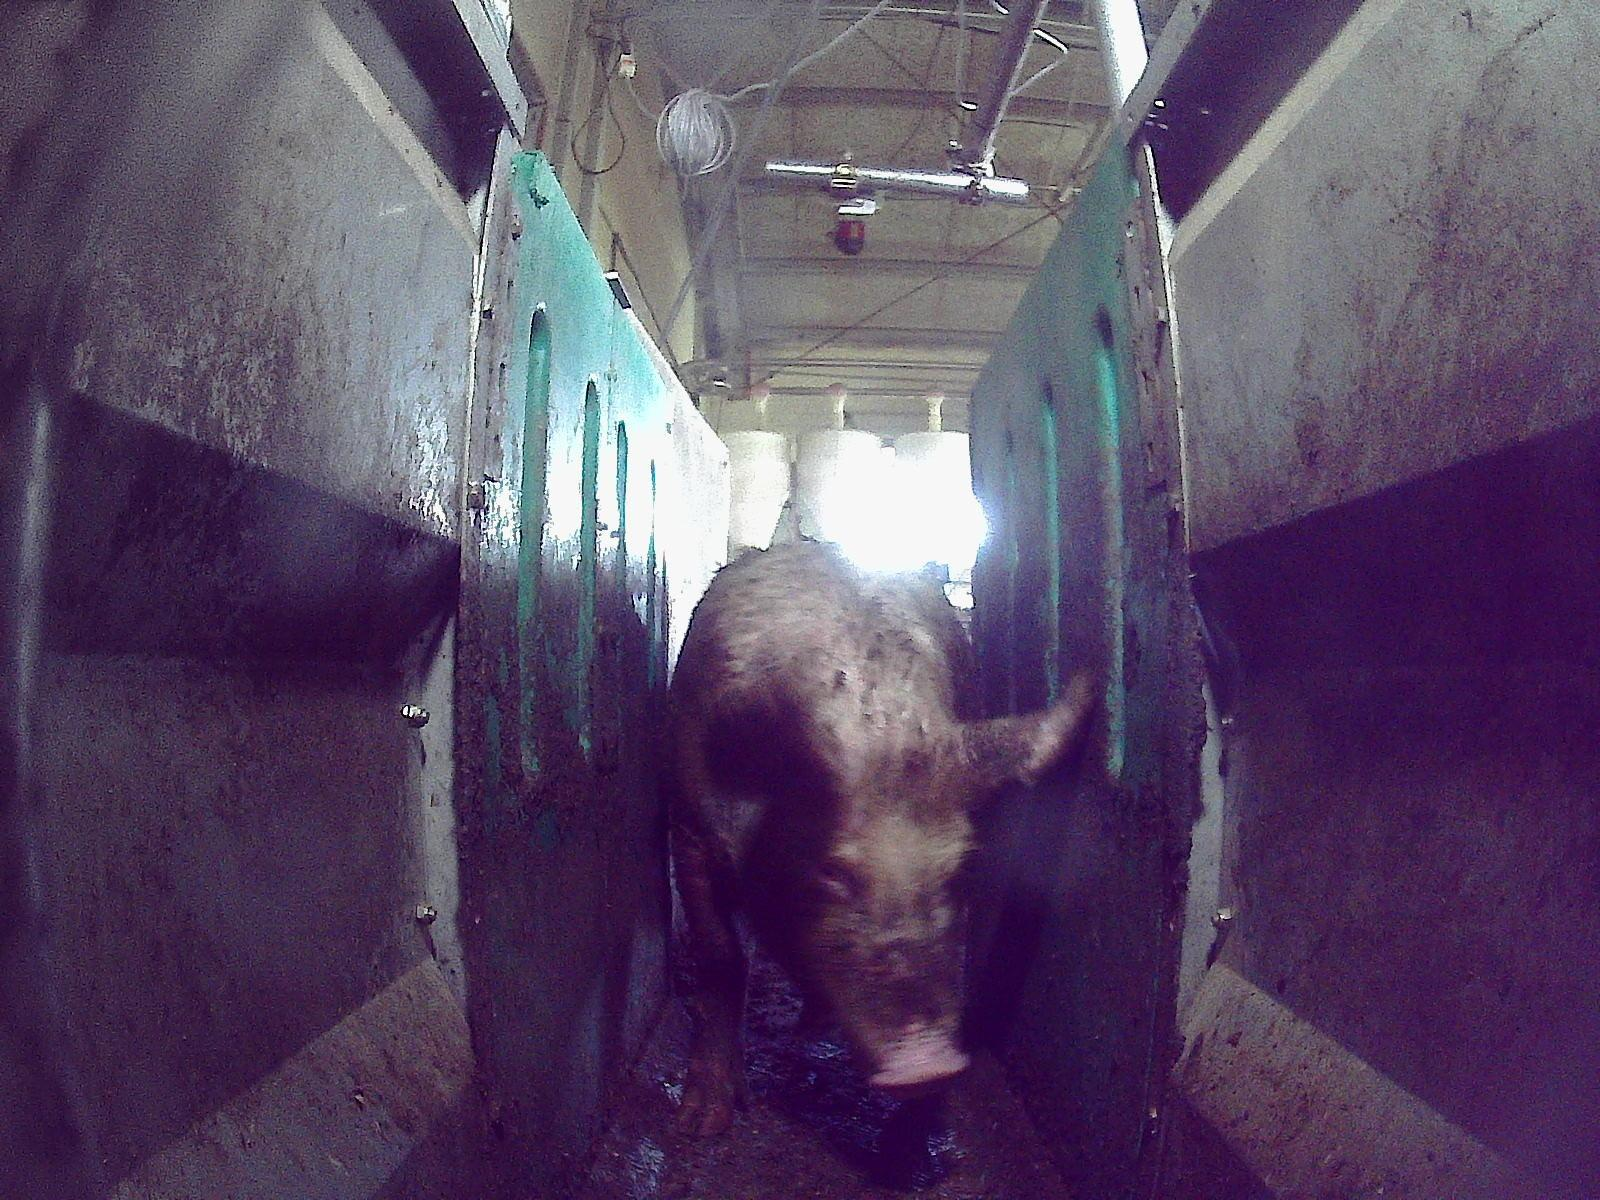Face: (771, 744, 981, 1095)
